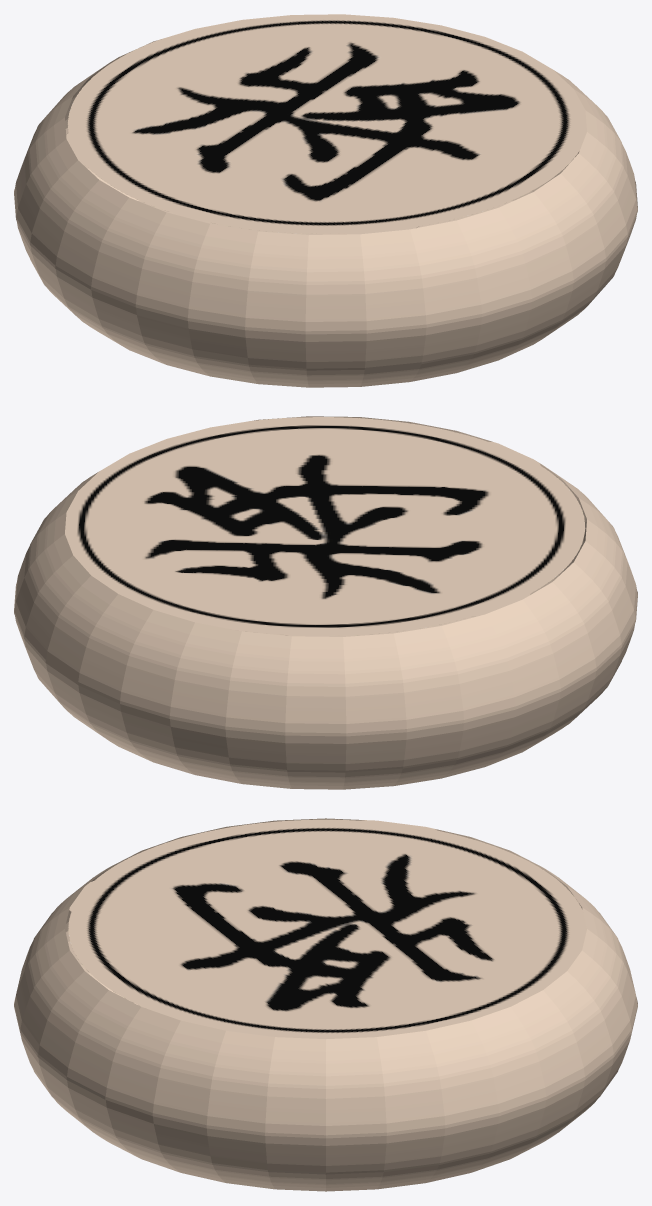
Rendered from black_king.fbx.
3 views of the same model, one above another, from view 1: azimuth 30°, elevation 25°; view 2: azimuth 150°, elevation 25°; view 3: azimuth 270°, elevation 25° (orthographic).
Parts seen in each view (by area): view 1: Black King; view 2: Black King; view 3: Black King.
Part boxes in pixels (x1,y1,x2,y2): Black King: [14, 14, 637, 387]; Black King: [14, 416, 637, 789]; Black King: [14, 818, 637, 1191].
Bounding box in the file's own units: 245 × 66.11 × 245.
Materials: 2 (1 with a texture image).
